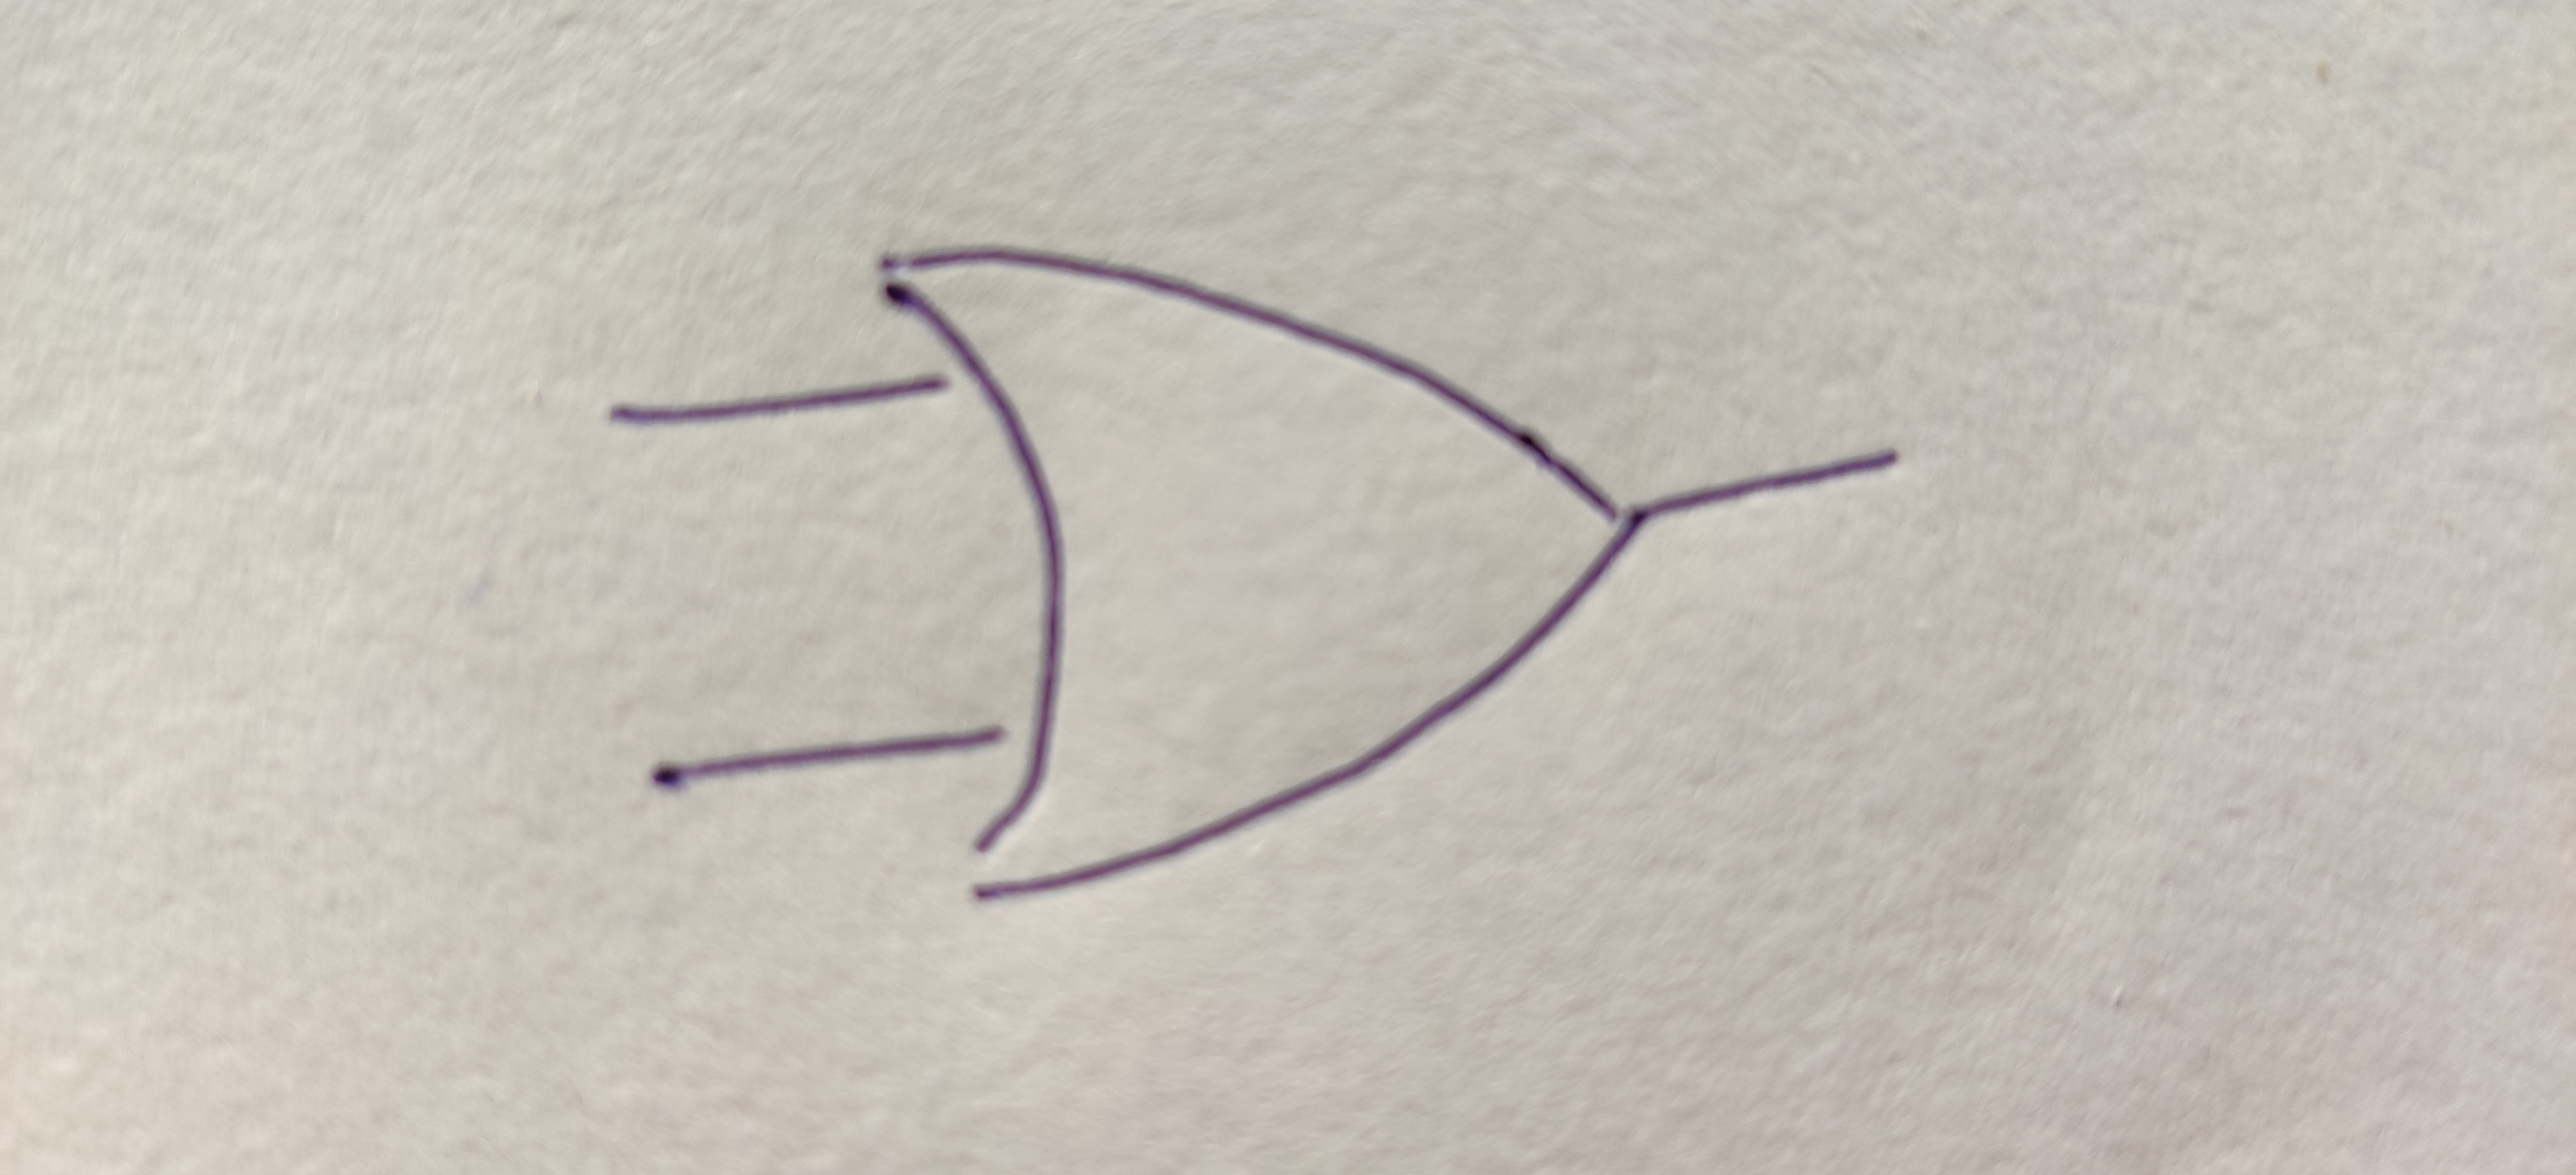or: (884, 245, 1646, 901)
